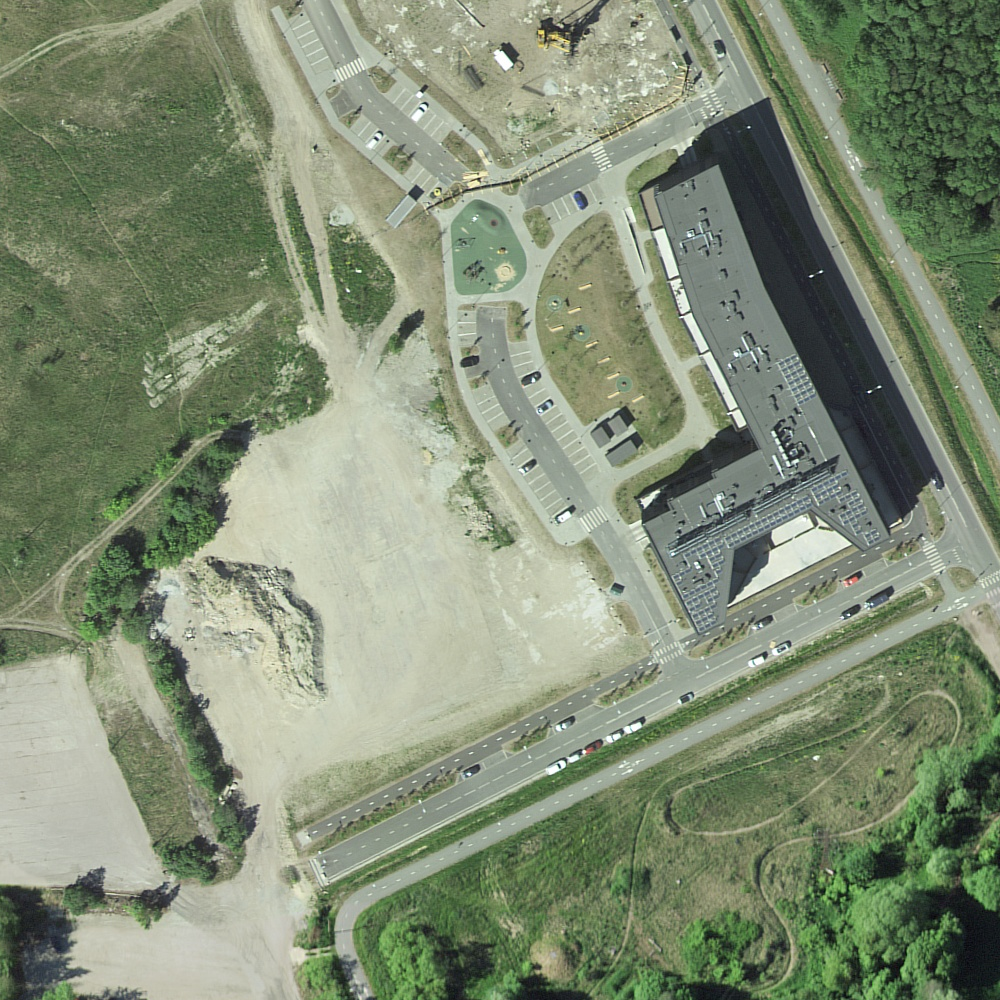building: (643, 165, 893, 634)
